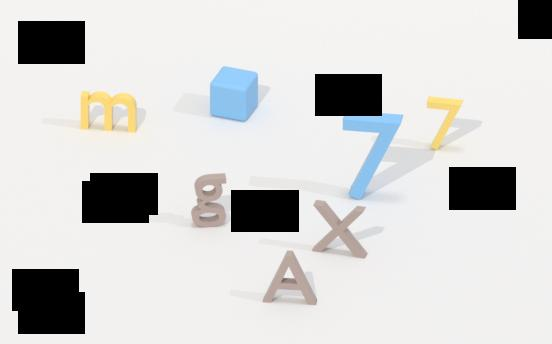7: (341, 107, 404, 202), (425, 93, 468, 154)
A-hoa: (258, 248, 321, 311)
g: (190, 171, 233, 232)
hop: (207, 64, 266, 122)
m: (82, 89, 140, 137)
x: (309, 195, 374, 262)
